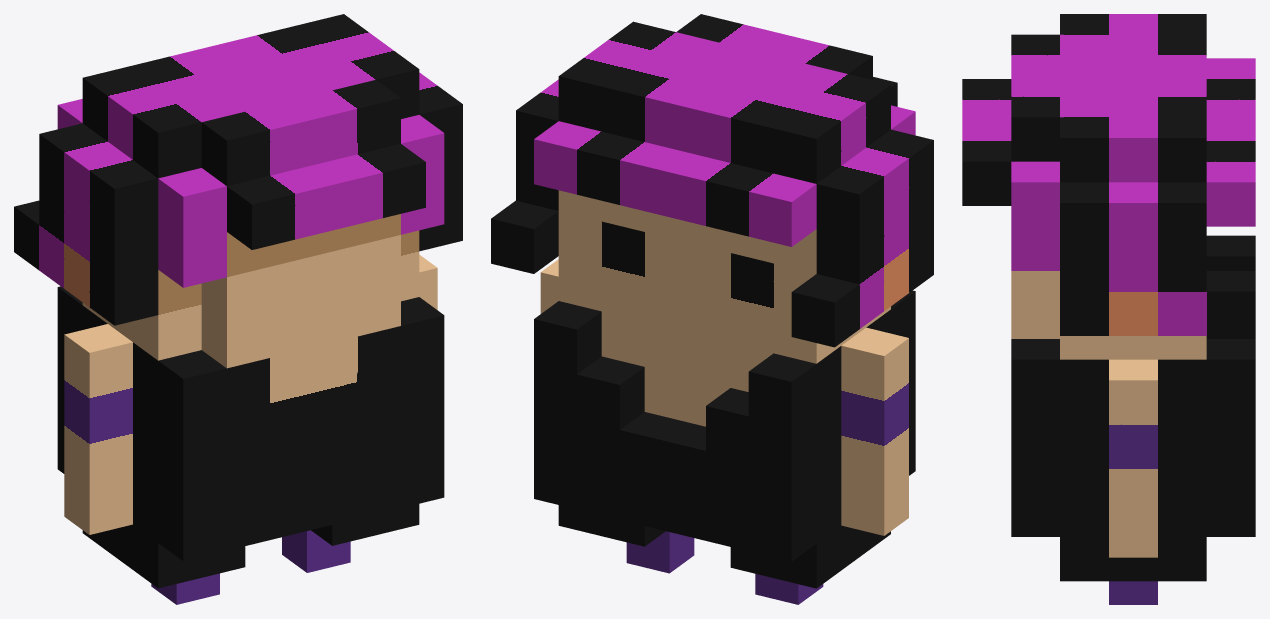
Rendered from chr_goth2.dae.
3 renders of one model, left to right at view 1: azimuth 30°, elevation 25°; view 2: azimuth 150°, elevation 25°; view 3: azimuth 270°, elevation 25°, orthographic. The views are drawn at different scales.
Visible parts, largest first — view 1: chr_goth2; view 2: chr_goth2; view 3: chr_goth2.
Part boxes in pixels (x1,y1,x2,y2): chr_goth2: (14,14,462,604); chr_goth2: (491,14,933,604); chr_goth2: (962,14,1255,604).
Bounding box in the file's own units: 0.8 × 0.6 × 1.1.
